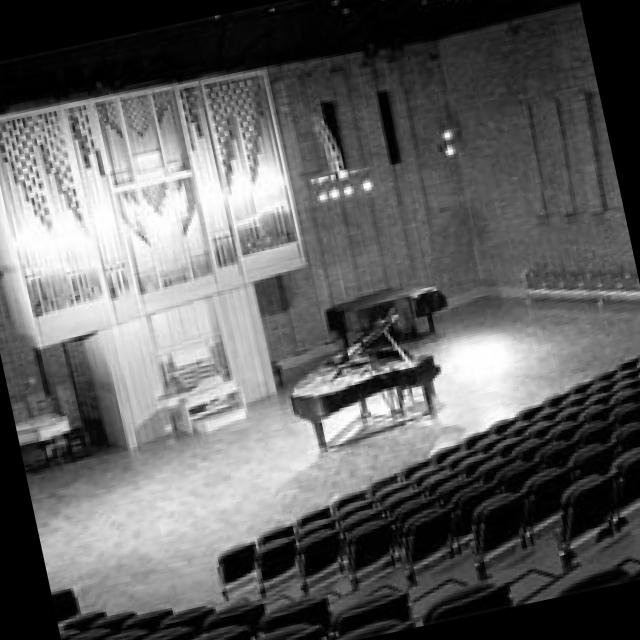floor -X: (30, 290, 640, 640)
grand piano: (292, 313, 445, 447), (327, 278, 449, 345)
lamp crop: (312, 161, 378, 202)
organ: (0, 63, 308, 446)
seats crop: (55, 351, 640, 640)
wall clock: (430, 0, 640, 297)
